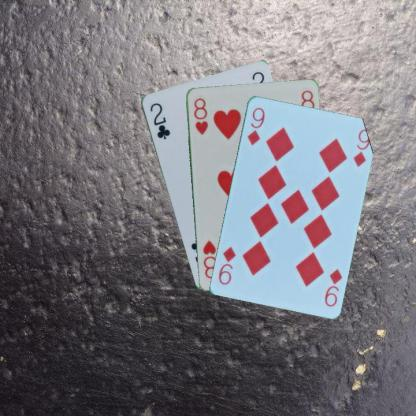2c: (146, 100, 172, 140)
8h: (191, 95, 209, 136)
9d: (322, 266, 344, 308), (244, 105, 266, 146)
